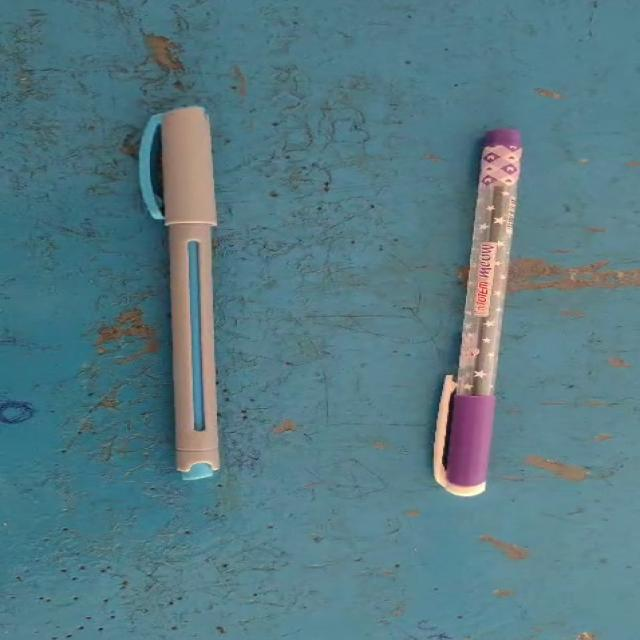pen: (98, 77, 289, 520), (415, 110, 570, 521)
